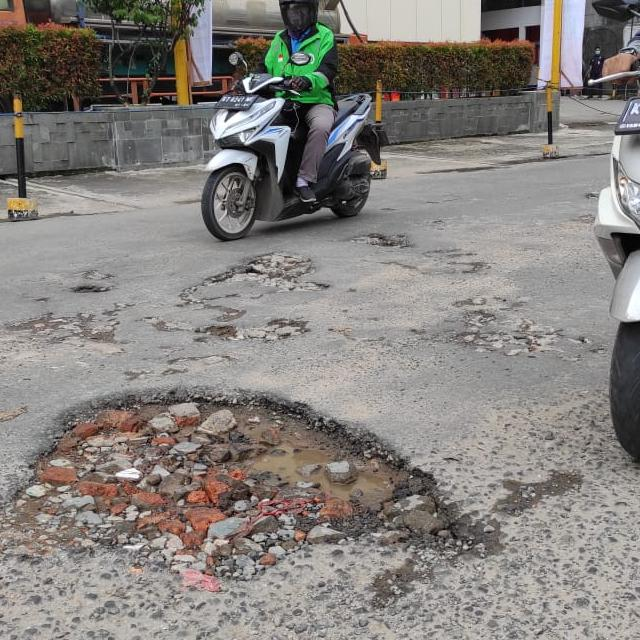lubang_kecil: (0, 357, 463, 602), (193, 244, 332, 299), (448, 309, 570, 368), (177, 309, 315, 356), (52, 263, 123, 316), (350, 226, 410, 261)
